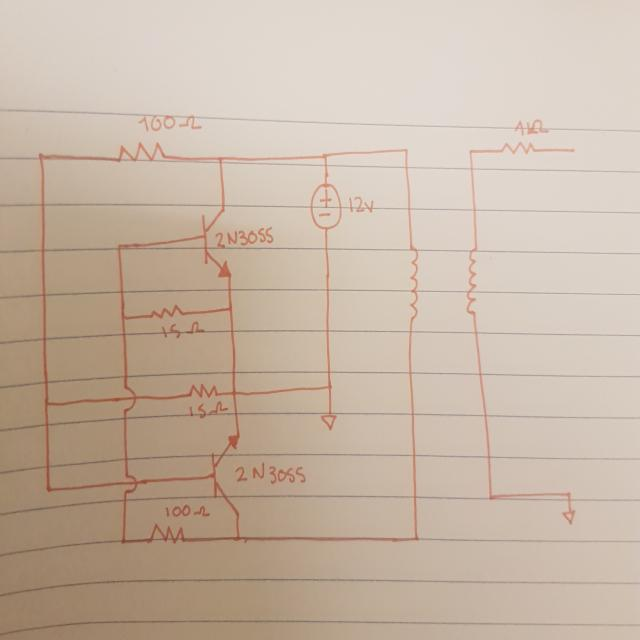crossover: (120, 382, 138, 417), (121, 473, 138, 497)
ground: (319, 410, 340, 436), (560, 506, 577, 528)
junction: (116, 241, 124, 255), (44, 482, 53, 494), (41, 396, 50, 408), (36, 151, 45, 163), (410, 533, 420, 543), (120, 313, 129, 324), (487, 492, 494, 504), (234, 534, 242, 544), (403, 145, 411, 155), (467, 147, 475, 157), (217, 154, 224, 165), (226, 304, 233, 313), (326, 382, 333, 391), (566, 488, 572, 498), (321, 153, 328, 161), (120, 536, 126, 545), (232, 389, 238, 397)
resistor: (114, 140, 172, 167), (147, 519, 189, 549), (498, 139, 541, 160), (185, 381, 221, 403), (148, 304, 188, 322)
source: (309, 182, 344, 234)
terminal: (567, 144, 577, 156)
text: (234, 461, 306, 485), (138, 113, 202, 134), (214, 226, 274, 248), (161, 321, 205, 340), (512, 116, 550, 137), (346, 194, 377, 218), (164, 504, 210, 520), (188, 401, 228, 418)
transformer: (405, 241, 483, 336)
transistor: (209, 433, 244, 520), (198, 207, 234, 281)
